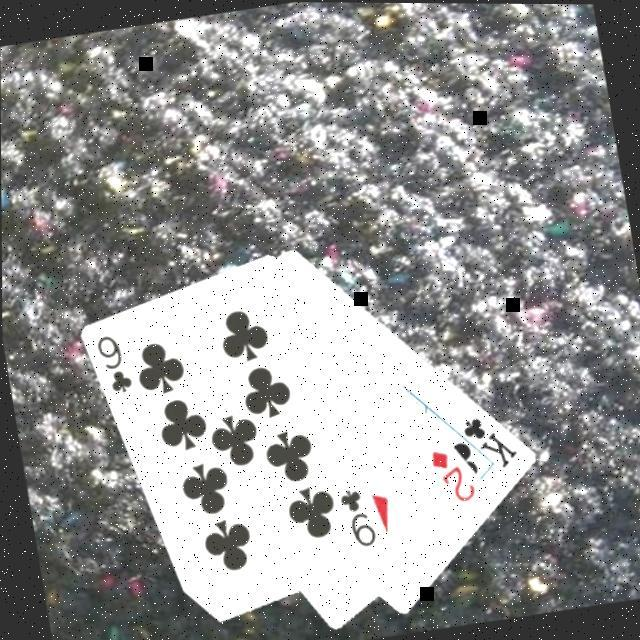2D: (427, 440, 482, 508)
9C: (334, 481, 382, 552), (92, 328, 138, 399)
KC: (447, 407, 524, 477)
